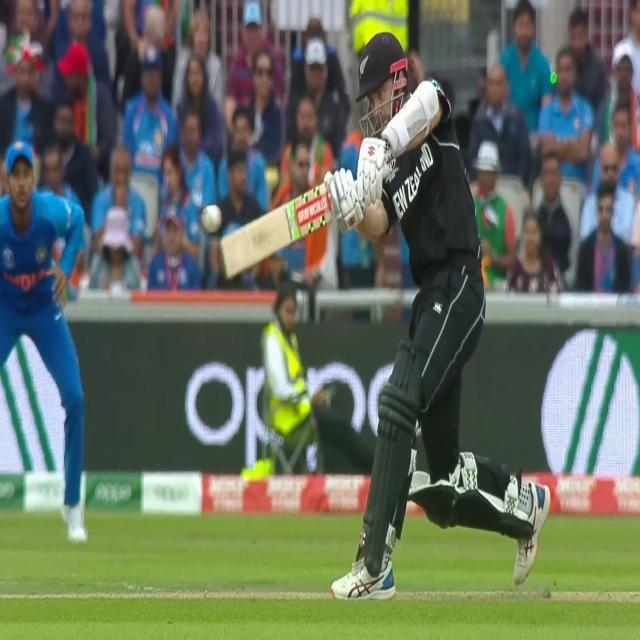ball: (201, 200, 220, 236)
